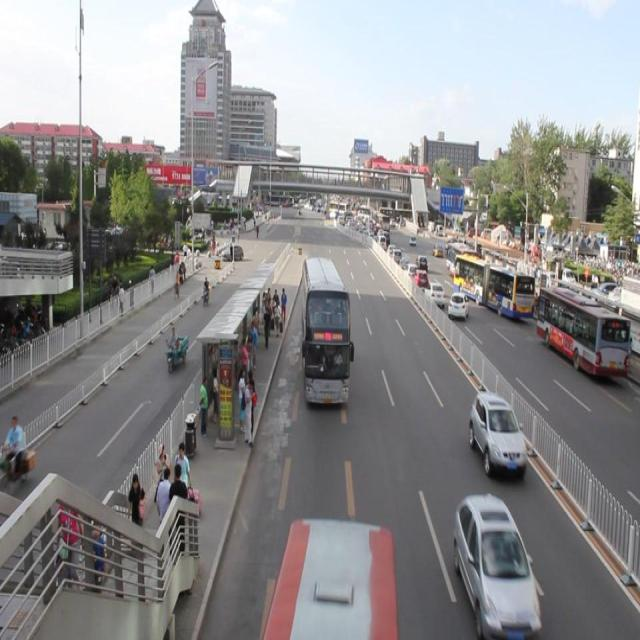car: (448, 493, 540, 640), (466, 392, 529, 479)
van: (258, 520, 399, 640), (298, 256, 354, 410)
